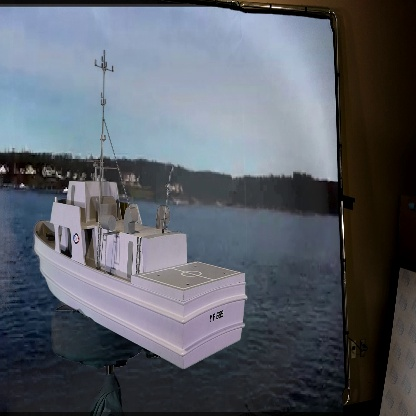YP689: (32, 48, 249, 372)
